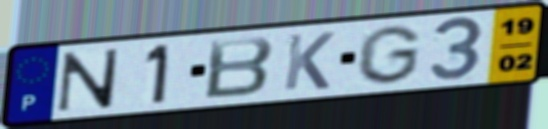1: (141, 43, 171, 106)
3: (427, 13, 486, 86)
B: (201, 34, 277, 102)
G: (353, 24, 424, 87)
K: (280, 30, 338, 93)
N: (54, 46, 123, 114)
